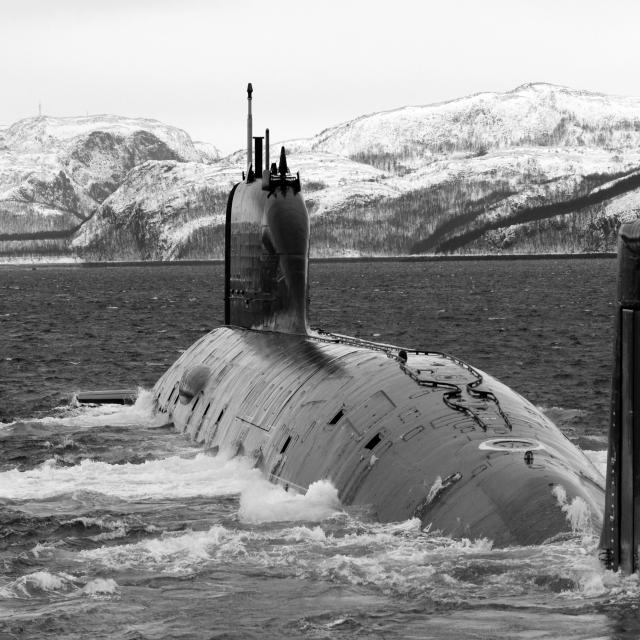submarine: (65, 40, 640, 612)
